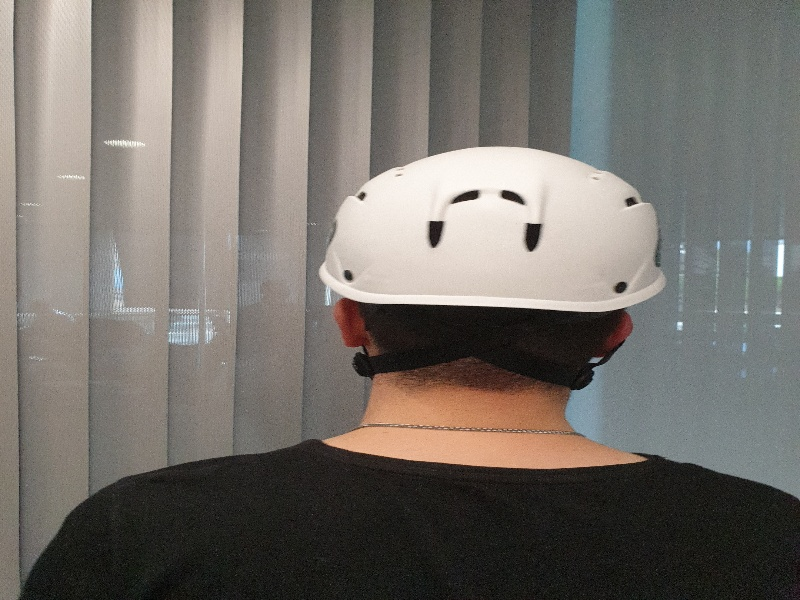Baret: (316, 145, 669, 320)
